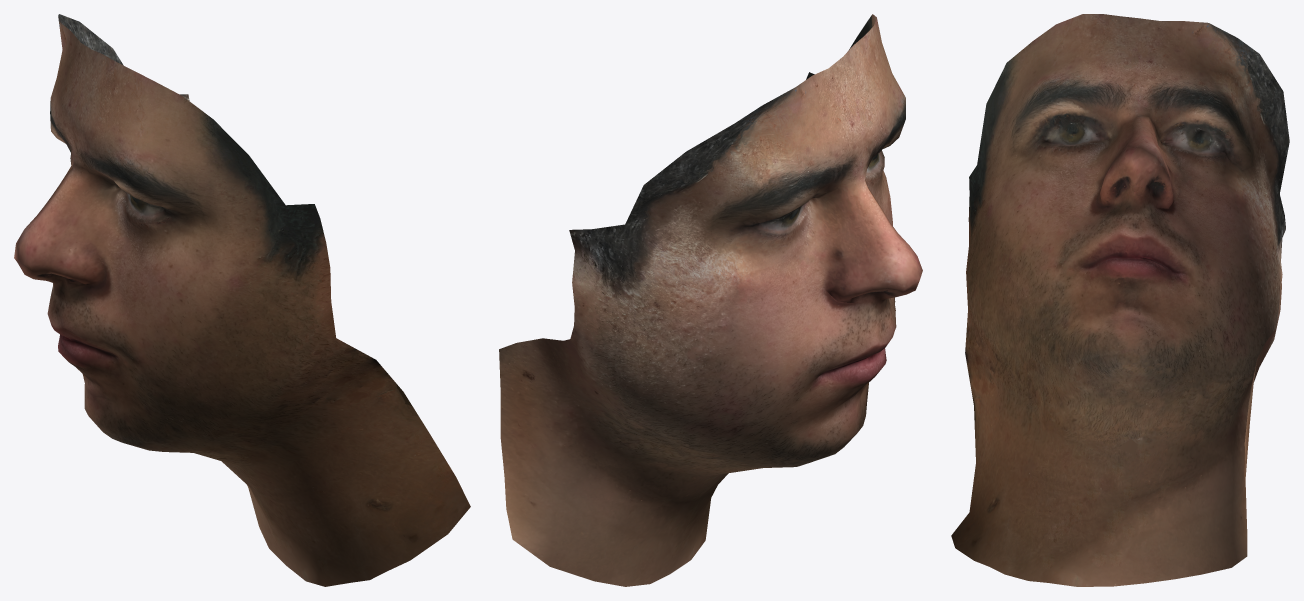
Rendered from miface.FBX.
3 renders of one model, left to right at view 1: azimuth 30°, elevation 25°; view 2: azimuth 150°, elevation 25°; view 3: azimuth 270°, elevation 25°, orthographic. The views are drawn at different scales.
Visible parts, largest first — view 1: Mi_Face_Low; view 2: Mi_Face_Low; view 3: Mi_Face_Low.
Part boxes in pixels (x1,y1,x2,y2): Mi_Face_Low: (14, 14, 470, 586); Mi_Face_Low: (499, 14, 922, 586); Mi_Face_Low: (951, 14, 1289, 586).
Size of the model in its own units: 24.89 by 38.04 by 23.55.
Materials: 1 (1 with a texture image).
